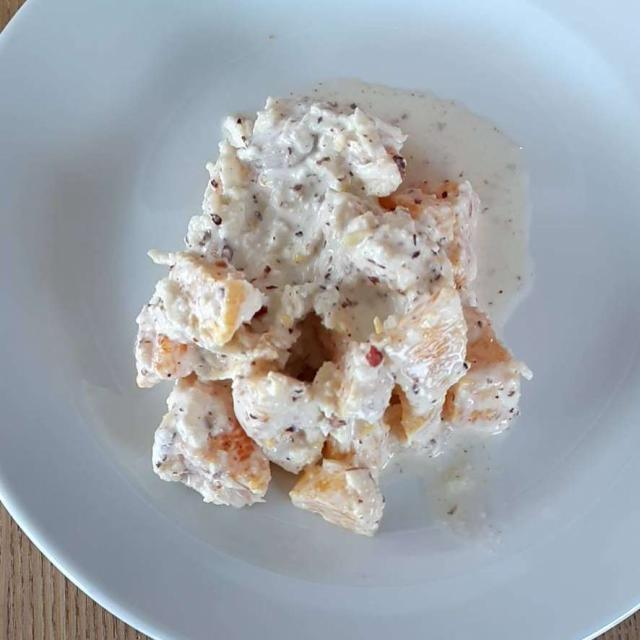birchermuesli: (138, 94, 523, 531)
